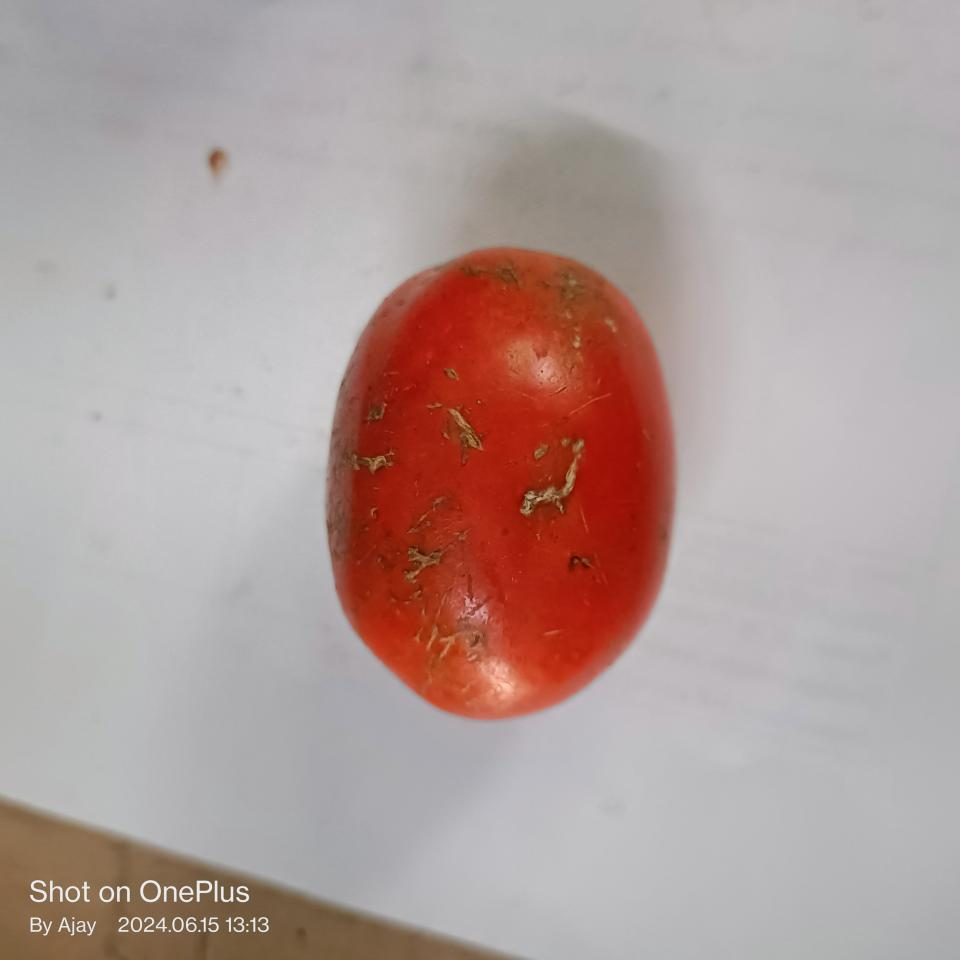Bacterial_Spot: (514, 411, 596, 527), (392, 522, 450, 597), (436, 394, 497, 464), (342, 442, 396, 486), (562, 550, 600, 576), (463, 626, 493, 652)
